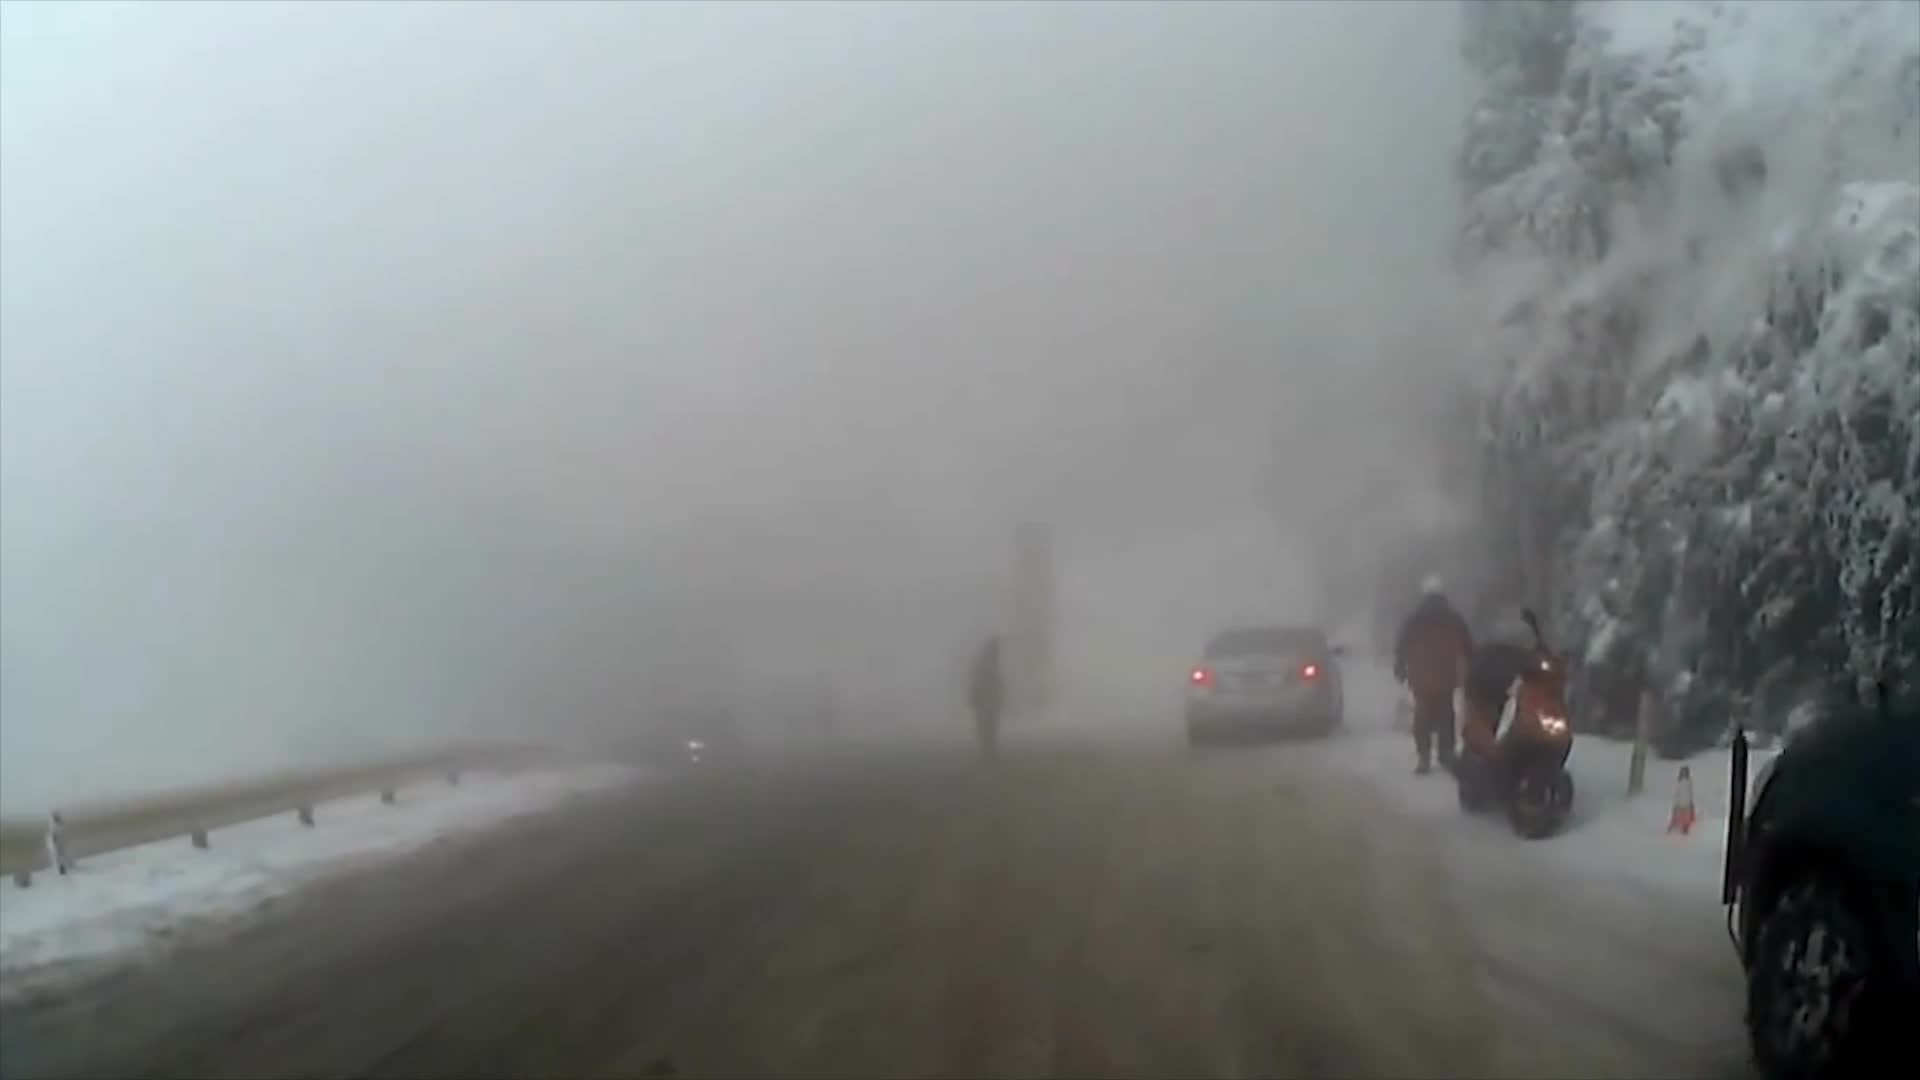pedestrian: (1392, 567, 1483, 779), (964, 635, 1006, 769)
vehicle: (1715, 614, 1918, 1080), (1179, 621, 1346, 751)
